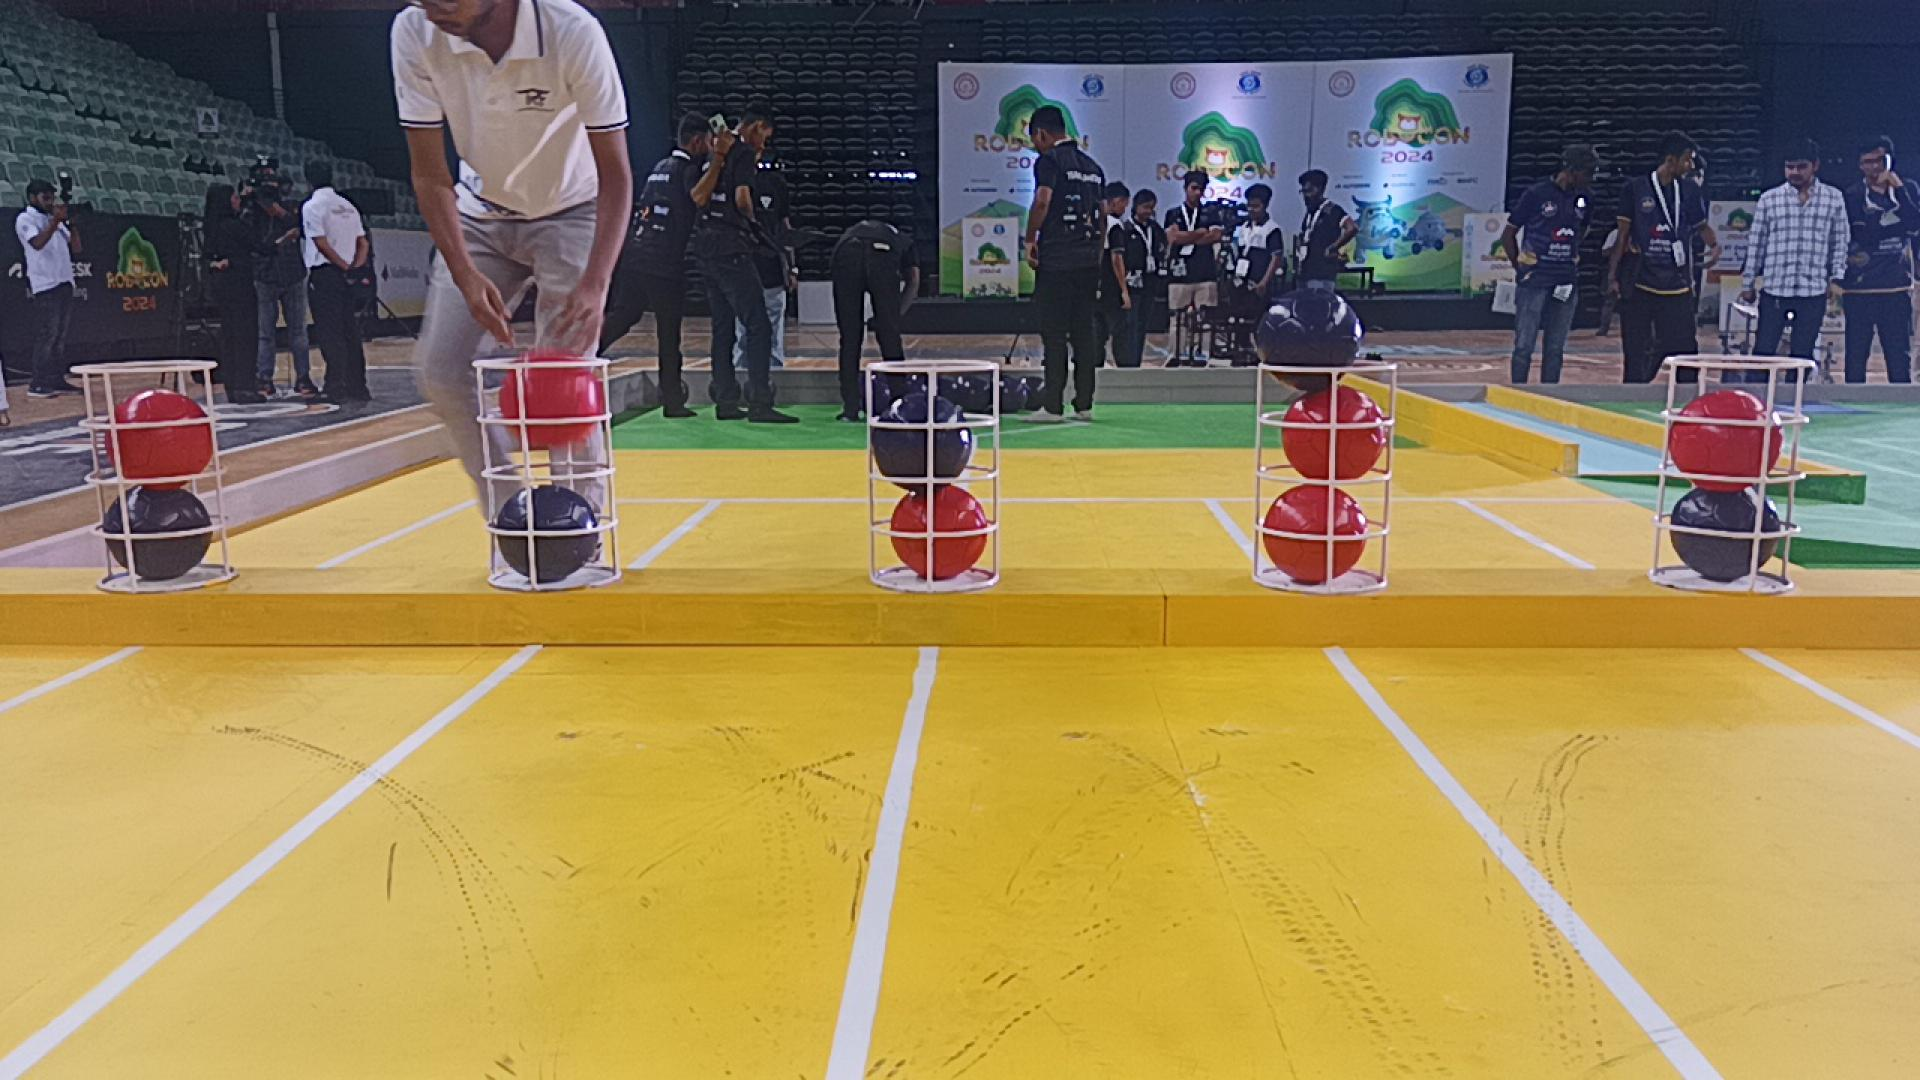dhoka: (1257, 285, 1361, 394), (1668, 488, 1782, 585), (870, 390, 975, 495), (495, 484, 600, 585), (102, 488, 214, 582)
laale: (1668, 390, 1782, 489), (498, 348, 608, 450), (1263, 484, 1369, 583), (1283, 386, 1387, 480), (105, 390, 214, 480), (893, 484, 990, 582)
